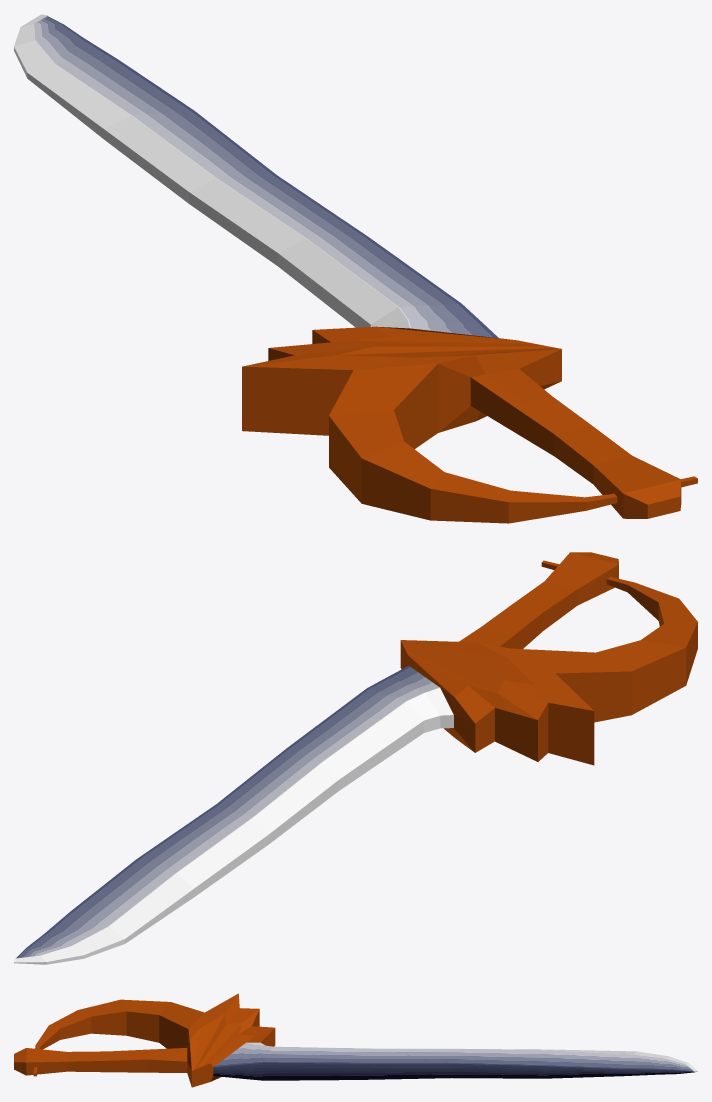
Rendered from 6-Sword.fbx.
3 renders of one model, top to bottom at view 1: azimuth 30°, elevation 25°; view 2: azimuth 150°, elevation 25°; view 3: azimuth 270°, elevation 25°, orthographic. The views are drawn at different scales.
Parts seen in each view (by area): view 1: Sword6; view 2: Sword6; view 3: Sword6.
Part boxes in pixels (x1,y1,x2,y2): Sword6: [14, 14, 697, 523]; Sword6: [14, 552, 697, 964]; Sword6: [14, 993, 697, 1087].
Size of the model in its own units: 125 by 30.13 by 520.
